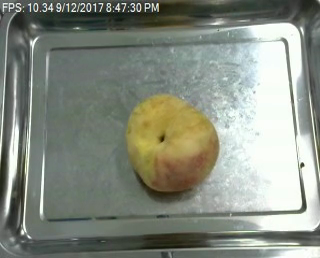Peach: (125, 93, 220, 192)
